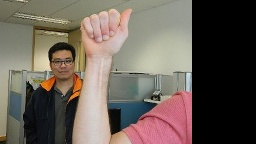Pugno: (75, 5, 133, 56)
